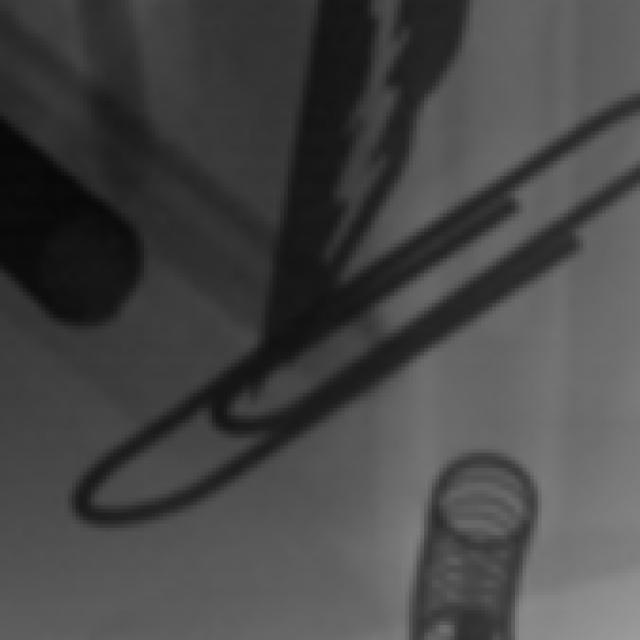GUN: (122, 1, 510, 427)
